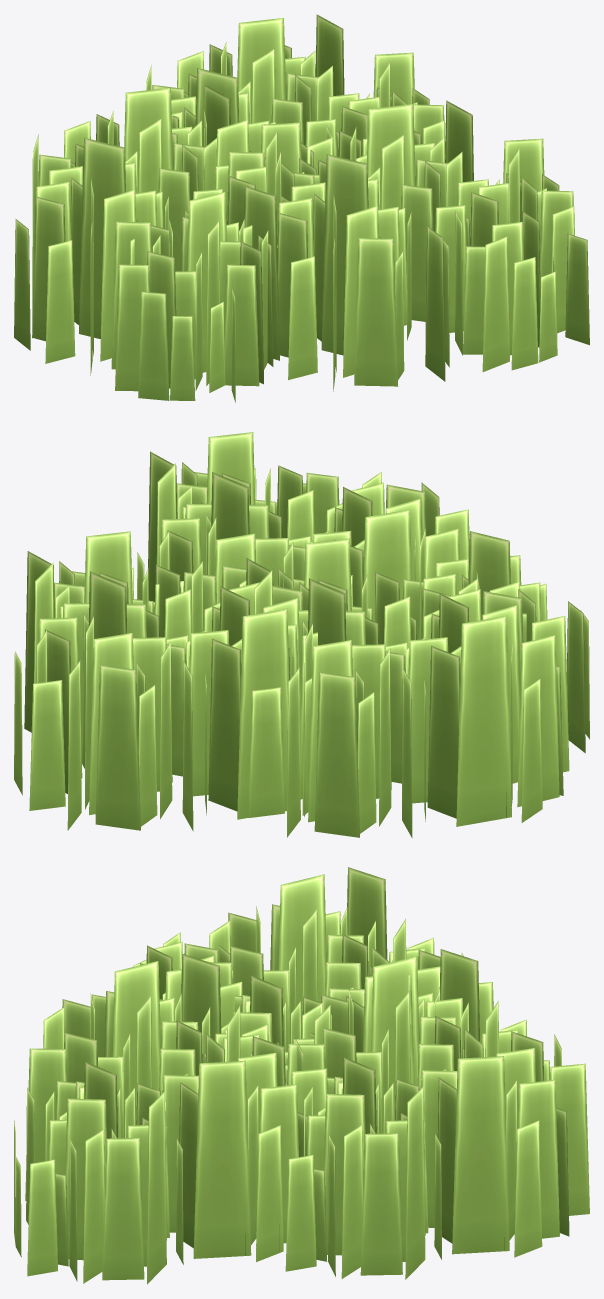
File: SM_Grass_01_C.glb
3 renders of one model, top to bottom at view 1: azimuth 30°, elevation 25°; view 2: azimuth 150°, elevation 25°; view 3: azimuth 270°, elevation 25°, orthographic. The views are drawn at different scales.
Visible parts, largest first — view 1: SM_Grass_01_C; view 2: SM_Grass_01_C; view 3: SM_Grass_01_C.
Part boxes in pixels (left/top/right/bottom): SM_Grass_01_C: left=14, top=14, right=589, bottom=402; SM_Grass_01_C: left=14, top=432, right=589, bottom=837; SM_Grass_01_C: left=14, top=867, right=589, bottom=1284.
Bounding box in the file's own units: 0.5418 × 0.2319 × 0.5714.
1 material, 1 textured.
